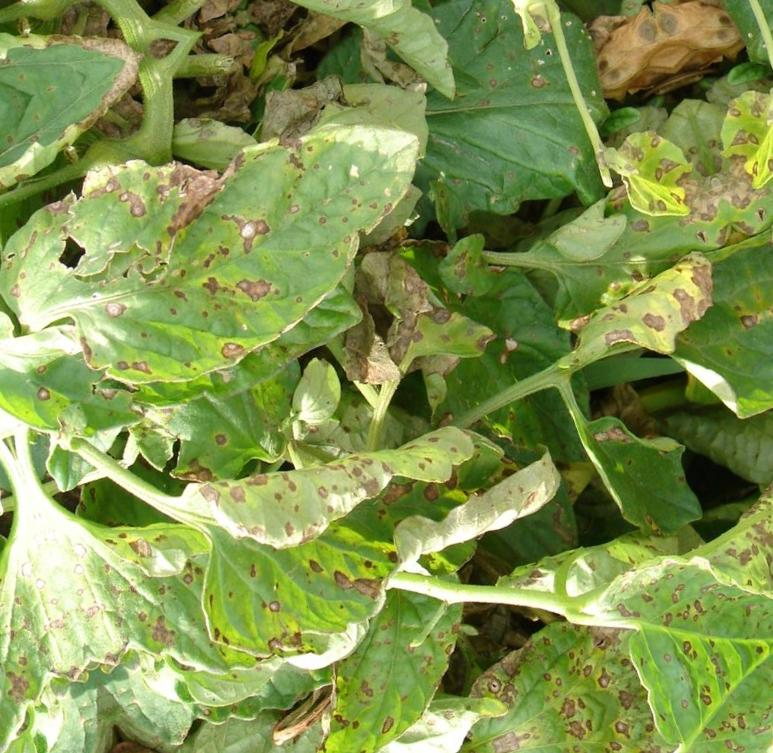Tomato Septoria leaf spot: (0, 43, 485, 435), (150, 377, 530, 677), (26, 411, 333, 753), (253, 537, 543, 753), (567, 242, 773, 469), (580, 486, 773, 700), (0, 39, 215, 219)
